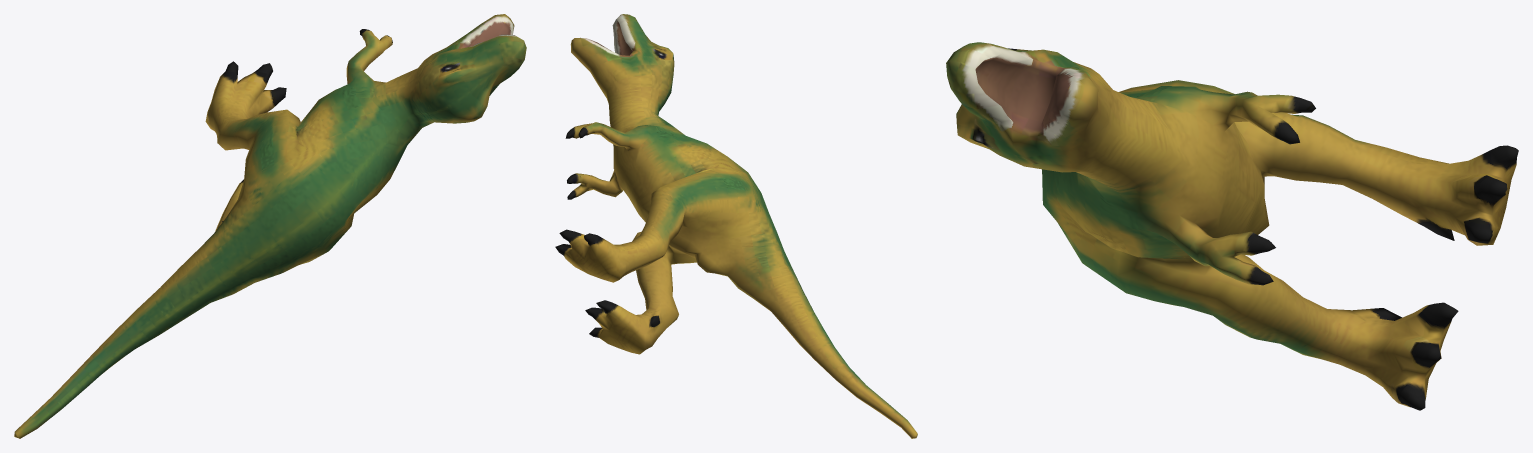
Rendered from ref_gtdinosaur.glb.
The picture shows the model from 3 angles, left to right: view 1: azimuth 30°, elevation 25°; view 2: azimuth 150°, elevation 25°; view 3: azimuth 270°, elevation 25°; orthographic projection. The views are drawn at different scales.
Parts seen in each view (by area): view 1: ref_gtdinosaur; view 2: ref_gtdinosaur; view 3: ref_gtdinosaur.
Boxes of the visible parts, bbox=[...] form: ref_gtdinosaur: bbox=[14, 14, 526, 438]; ref_gtdinosaur: bbox=[555, 14, 917, 438]; ref_gtdinosaur: bbox=[946, 42, 1518, 410].
Size of the model in its own units: 1 by 0.7374 by 0.6514.
Materials: 1 (1 with a texture image).
